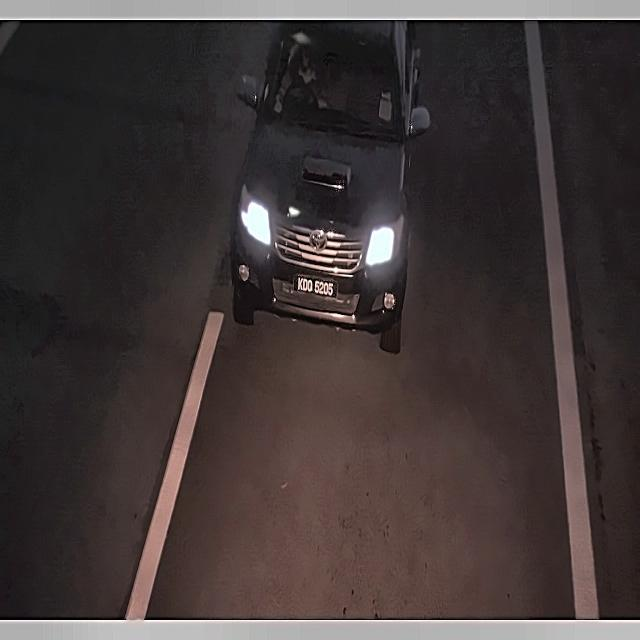car: (289, 268, 344, 302)
